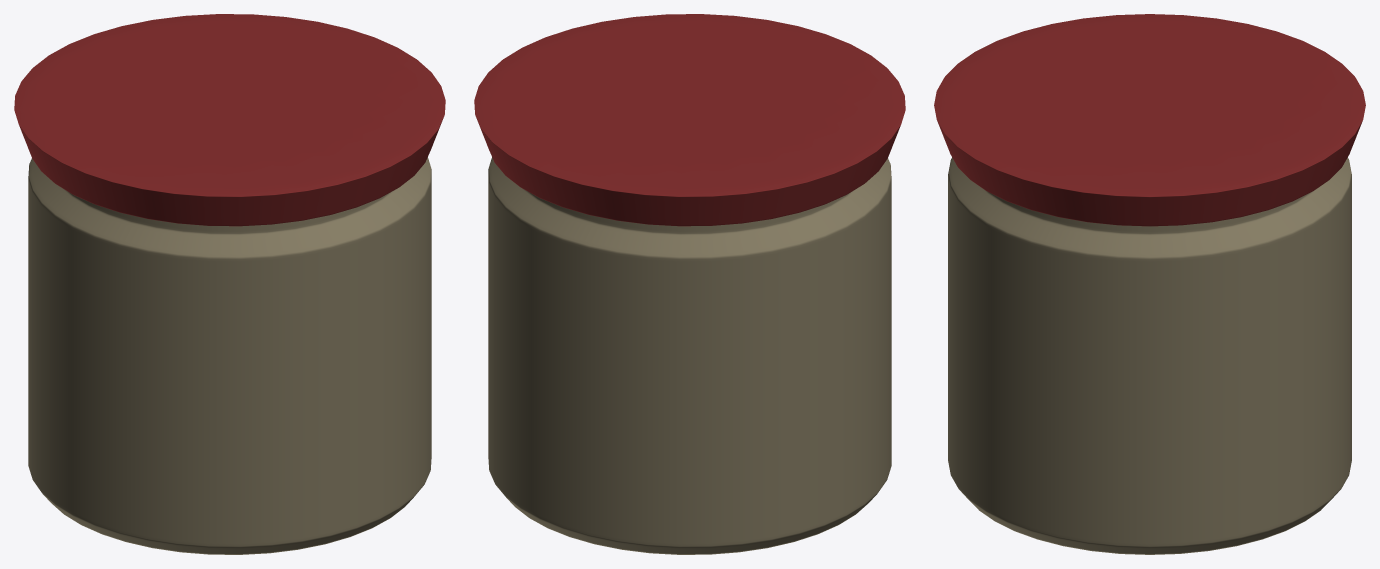
Rendered from Bucket4.fbx.
3 views of the same model, side by side, from view 1: azimuth 30°, elevation 25°; view 2: azimuth 150°, elevation 25°; view 3: azimuth 270°, elevation 25° (orthographic).
Parts seen in each view (by area): view 1: Bucket4_High (×2); view 2: Bucket4_High (×2); view 3: Bucket4_High (×2).
Part boxes in pixels (bbox=[...]): Bucket4_High (×2): bbox=[14, 14, 445, 554]; Bucket4_High (×2): bbox=[474, 14, 905, 554]; Bucket4_High (×2): bbox=[934, 14, 1365, 554].
Size of the model in its own units: 0.6349 by 0.6007 by 0.6349.
